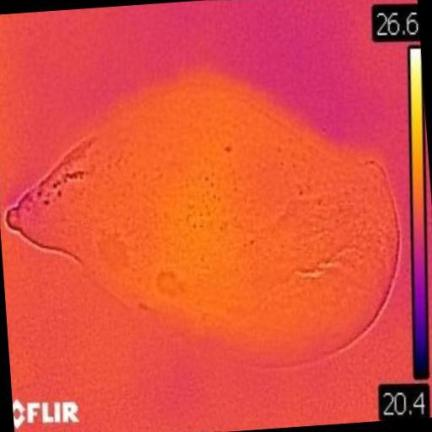mango: (8, 72, 399, 364)
